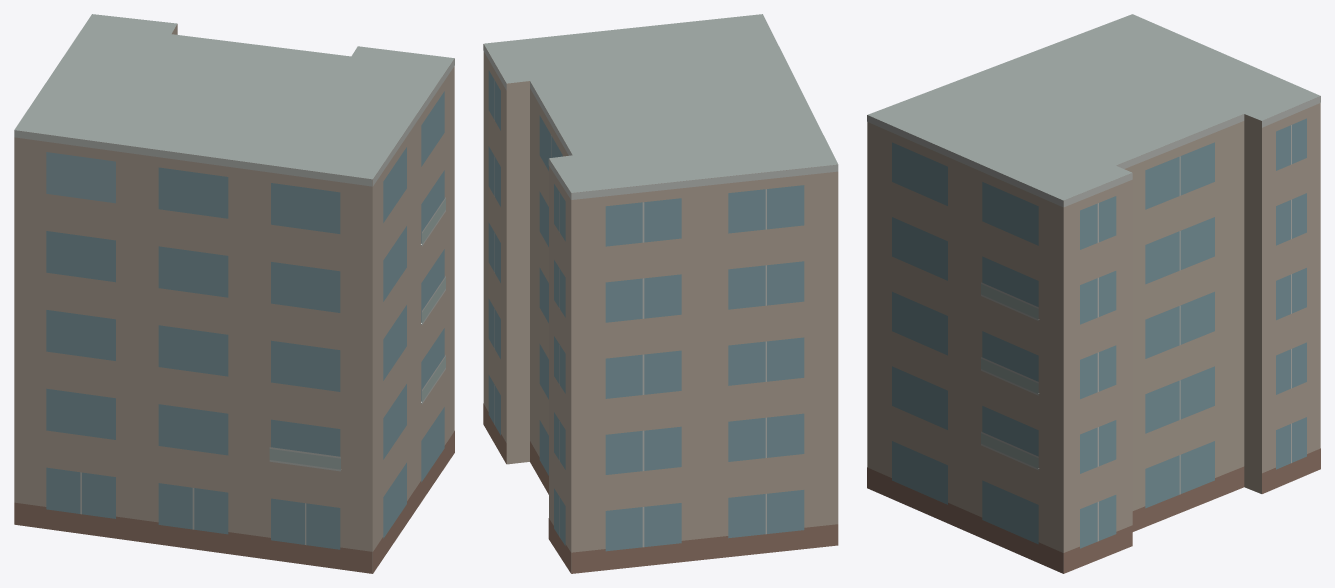
File: survey-upis-32643355.glb
3 views of the same model, side by side, from view 1: azimuth 30°, elevation 25°; view 2: azimuth 150°, elevation 25°; view 3: azimuth 270°, elevation 25° (orthographic). The views are drawn at different scales.
Parts seen in each view (by area): view 1: survey-upis-32643355.tmp; view 2: survey-upis-32643355.tmp; view 3: survey-upis-32643355.tmp.
Part boxes in pixels (x1=…): survey-upis-32643355.tmp: x1=14, y1=14, x2=454, y2=573; survey-upis-32643355.tmp: x1=483, y1=14, x2=838, y2=573; survey-upis-32643355.tmp: x1=867, y1=14, x2=1320, y2=573.
Size of the model in its own units: 14.16 by 13.2 by 14.54.
